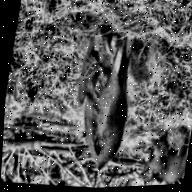boar: (62, 25, 154, 182), (130, 129, 190, 186)
